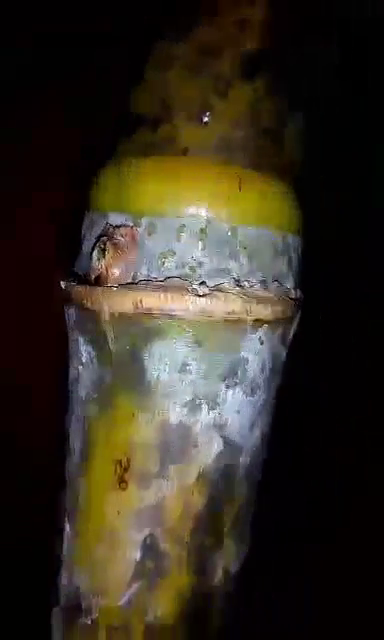cane eye: (85, 223, 143, 290)
